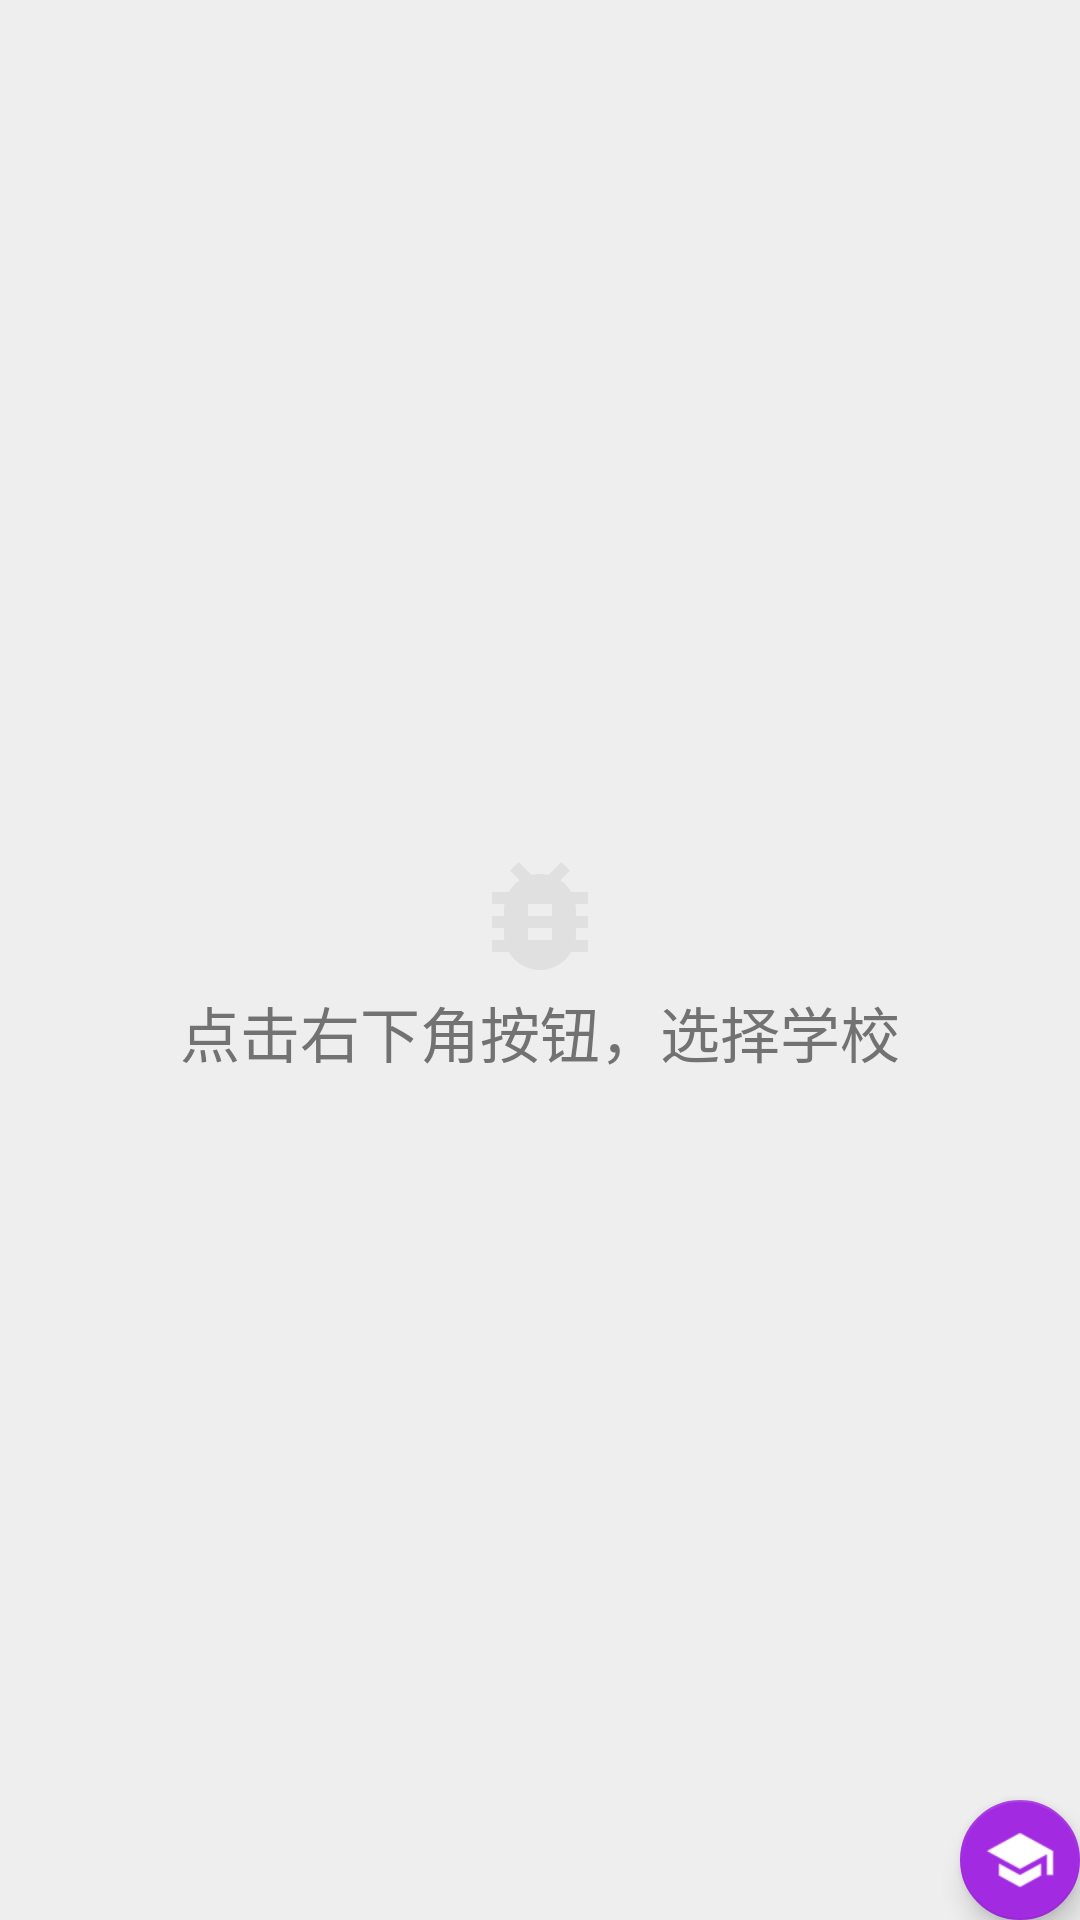

Point at icon controls on the screen. Image size 1080w x 1920h, points as (x=x, y=y).
school: (x=1020, y=1860)
